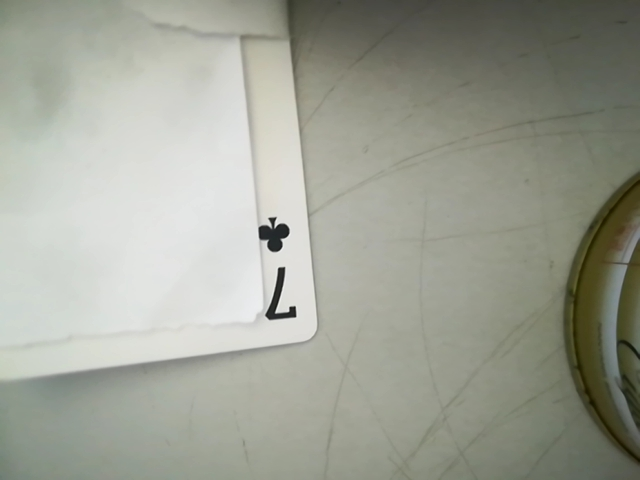mh 7: (245, 207, 309, 330)
